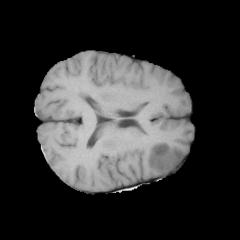glioma: (147, 142, 183, 172)
